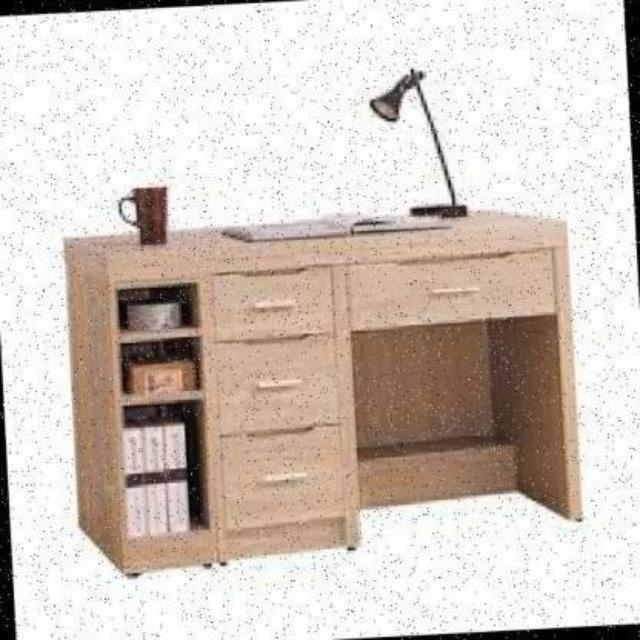glass: (118, 186, 170, 247)
table: (70, 202, 568, 575)
